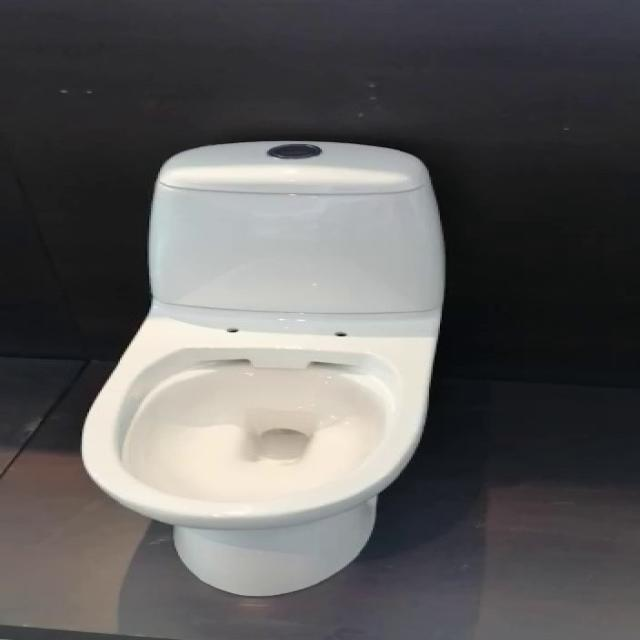toilet: (78, 139, 446, 596)
